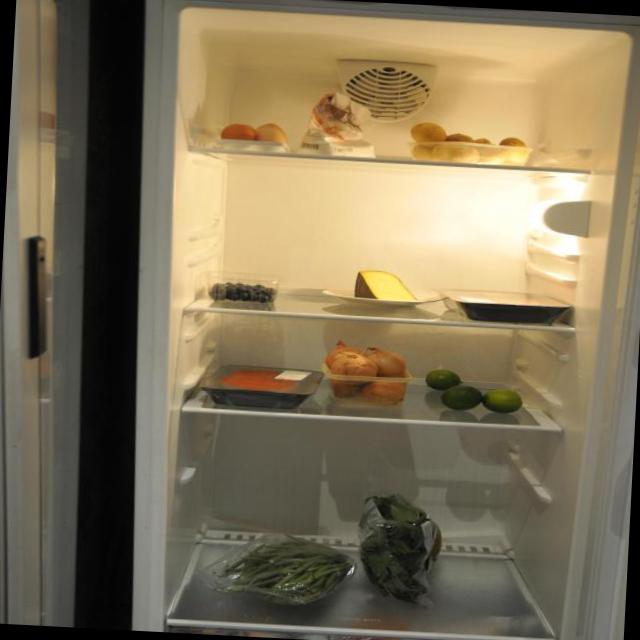Carne vacuno: (210, 361, 304, 408)
Cebolla: (320, 342, 416, 413)
Huevos: (217, 119, 294, 156)
Patata: (409, 119, 535, 168)
Queso: (354, 268, 419, 306)
